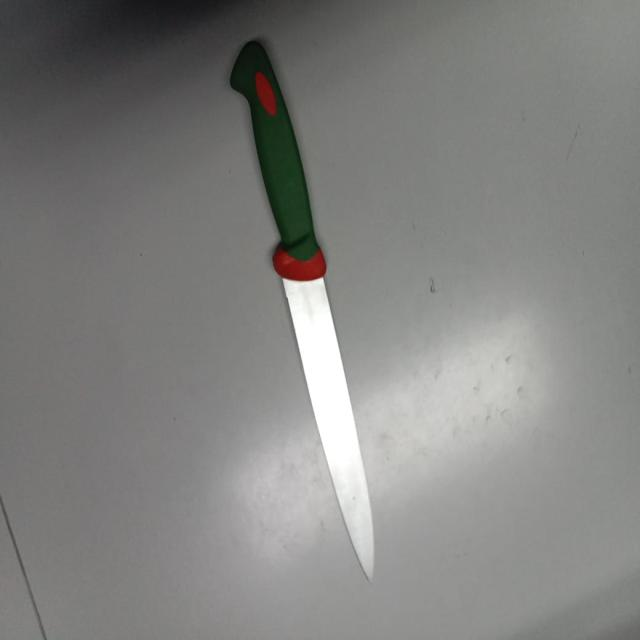Knife: (230, 40, 375, 581)
